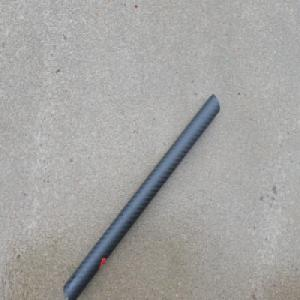LuggagePart: (62, 92, 220, 297)
